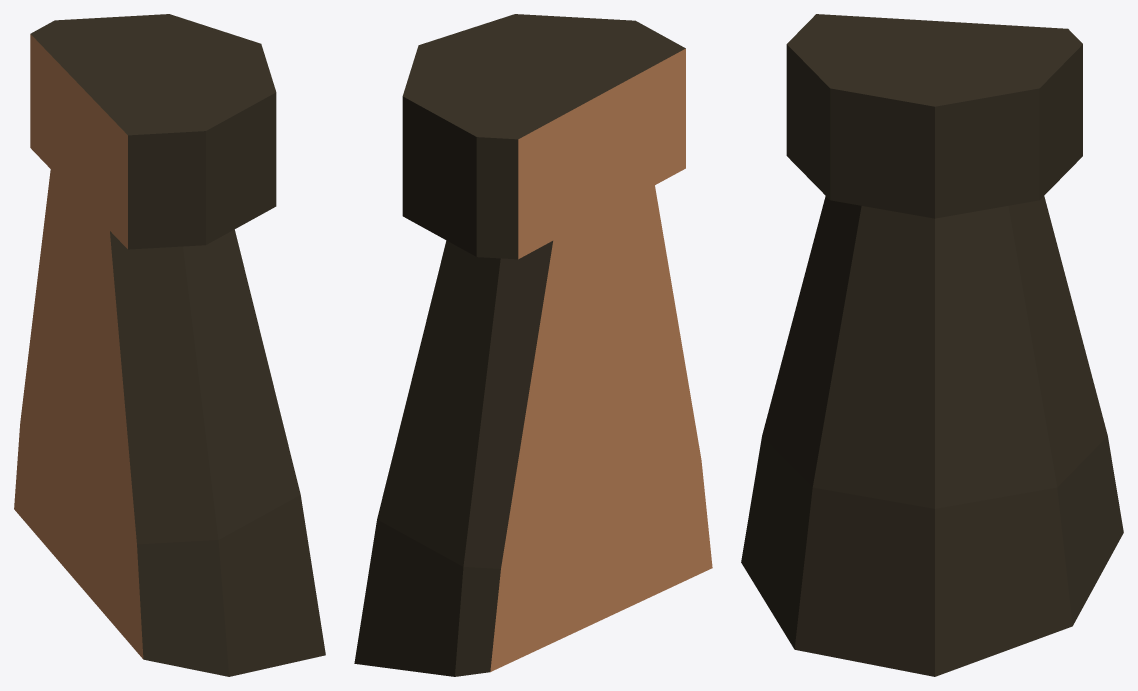
The model's file is vase_tall_01_shard_2.glb.
3 renders of one model, left to right at view 1: azimuth 30°, elevation 25°; view 2: azimuth 150°, elevation 25°; view 3: azimuth 270°, elevation 25°, orthographic. The views are drawn at different scales.
Parts seen in each view (by area): view 1: vase_tall_01_shard_2; view 2: vase_tall_01_shard_2; view 3: vase_tall_01_shard_2.
Boxes of the visible parts, x1,y1,x2,y2 form: vase_tall_01_shard_2: (14,14,325,676); vase_tall_01_shard_2: (354,14,712,676); vase_tall_01_shard_2: (741,14,1123,676).
Size of the model in its own units: 0.2232 by 0.4904 by 0.3099.
Materials: 2 (1 with a texture image).
